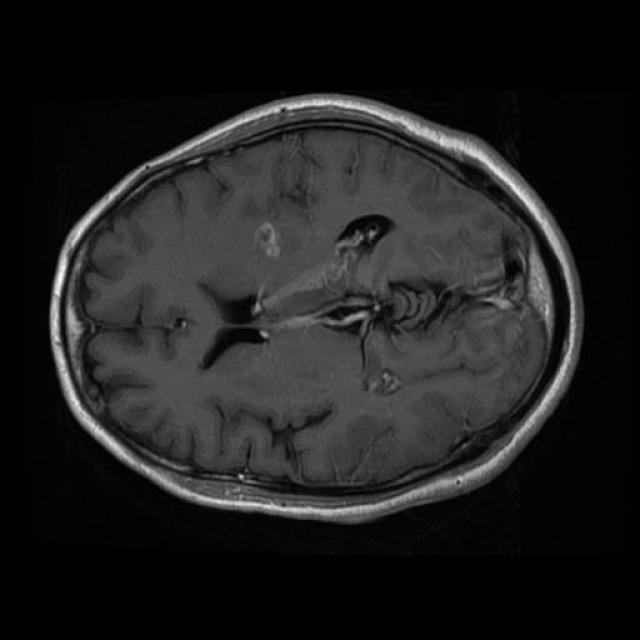Glioma: (251, 225, 379, 319), (257, 222, 279, 258)
